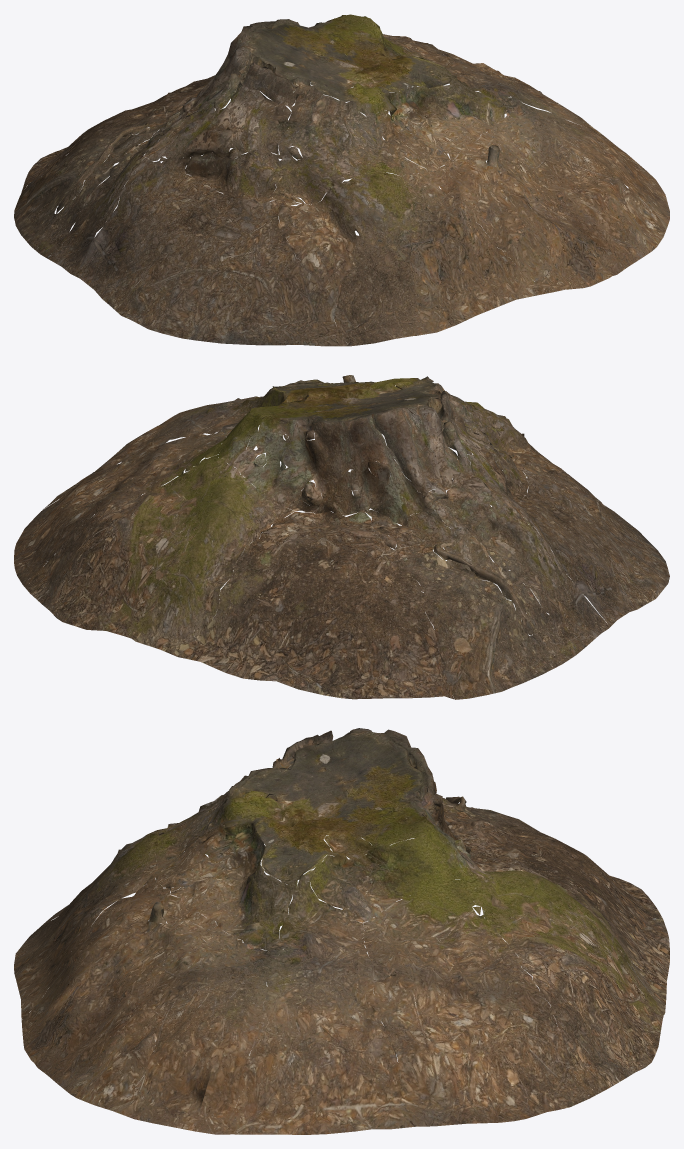
Rendered from tree_stump_02.glb.
The picture shows the model from 3 angles, top to bottom: view 1: azimuth 30°, elevation 25°; view 2: azimuth 150°, elevation 25°; view 3: azimuth 270°, elevation 25°; orthographic projection. The views are drawn at different scales.
Parts seen in each view (by area): view 1: tree_stump_02; view 2: tree_stump_02; view 3: tree_stump_02.
Boxes of the visible parts, bbox=[...] form: tree_stump_02: bbox=[14, 14, 669, 346]; tree_stump_02: bbox=[14, 375, 669, 699]; tree_stump_02: bbox=[14, 728, 669, 1134].
Bounding box in the file's own units: 1.52 × 0.5213 × 1.39.
Materials: 1 (1 with a texture image).
